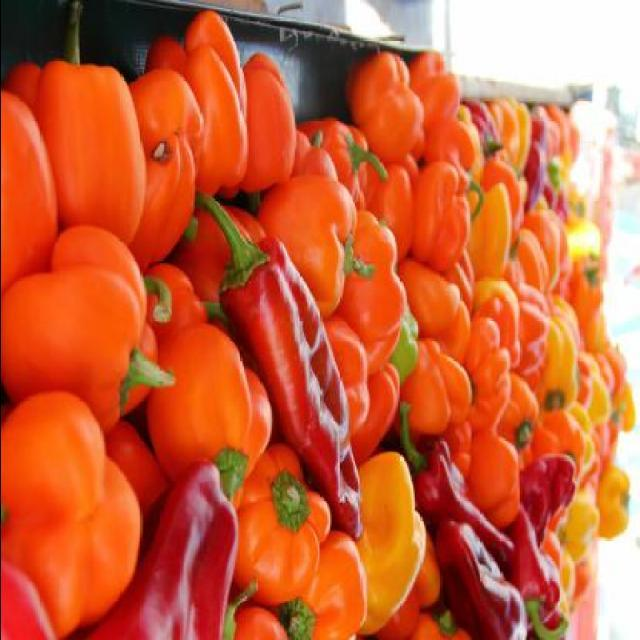Bell pepper: (1, 11, 639, 640)
